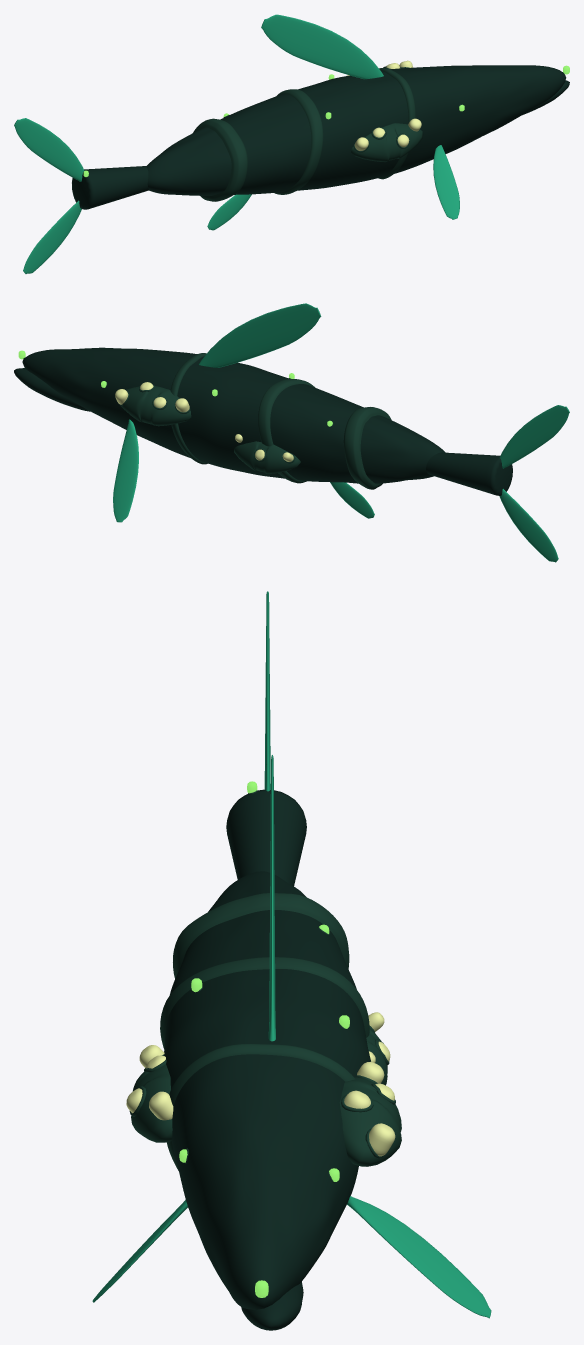
The model's file is corvette-pelagia-blender.glb.
3 renders of one model, top to bottom at view 1: azimuth 30°, elevation 25°; view 2: azimuth 150°, elevation 25°; view 3: azimuth 270°, elevation 25°, orthographic. The views are drawn at different scales.
Parts seen in each view (by area): view 1: hull, dorsal_blade, tail_peduncle, tail_fluke_upper, growth_ring_1, launcher_starboard_sheath, growth_ring_2, tail_fluke_lower, pectoral_starboard, keel_blade, launcher_starboard, growth_ring_3; view 2: hull, dorsal_blade, tail_peduncle, tail_fluke_upper, pectoral_port, launcher_port_fwd_sheath, growth_ring_1, tail_fluke_lower, launcher_port_aft_sheath, growth_ring_2, jaw_lobe, keel_blade (+2 smaller); view 3: hull, tail_peduncle, pectoral_port, growth_ring_1, launcher_port_fwd_sheath, growth_ring_2, growth_ring_3, launcher_port_fwd, launcher_starboard_sheath, launcher_starboard, dorsal_blade, jaw_lobe (+1 smaller).
Boxes of the visible parts, <box> form: hull: <box>146,65,566,195</box>; dorsal_blade: <box>261,14,383,79</box>; tail_peduncle: <box>72,166,148,209</box>; tail_fluke_upper: <box>14,118,84,181</box>; growth_ring_1: <box>193,118,247,201</box>; launcher_starboard_sheath: <box>351,123,423,161</box>; growth_ring_2: <box>274,89,323,194</box>; tail_fluke_lower: <box>23,200,81,273</box>; pectoral_starboard: <box>433,145,459,219</box>; keel_blade: <box>207,194,251,230</box>; launcher_starboard: <box>353,118,421,152</box>; growth_ring_3: <box>378,68,415,179</box>; hull: <box>22,347,445,483</box>; dorsal_blade: <box>199,303,321,367</box>; tail_peduncle: <box>426,452,512,495</box>; tail_fluke_upper: <box>499,405,569,468</box>; pectoral_port: <box>113,419,138,522</box>; launcher_port_fwd_sheath: <box>119,385,191,426</box>; growth_ring_1: <box>343,407,391,489</box>; tail_fluke_lower: <box>499,489,558,562</box>; launcher_port_aft_sheath: <box>234,441,300,473</box>; growth_ring_2: <box>258,379,315,483</box>; jaw_lobe: <box>14,368,90,411</box>; keel_blade: <box>330,482,374,518</box>; hull: <box>164,871,370,1309</box>; tail_peduncle: <box>226,789,306,886</box>; pectoral_port: <box>347,1196,491,1318</box>; growth_ring_1: <box>173,893,349,978</box>; launcher_port_fwd_sheath: <box>339,1077,401,1166</box>; growth_ring_2: <box>160,957,369,1048</box>; growth_ring_3: <box>166,1044,355,1170</box>; launcher_port_fwd: <box>341,1062,395,1158</box>; launcher_starboard_sheath: <box>131,1064,172,1142</box>; launcher_starboard: <box>126,1045,173,1120</box>; dorsal_blade: <box>268,755,275,1041</box>; jaw_lobe: <box>241,1281,303,1330</box>.
Size of the model in its own units: 78.52 by 28.66 by 24.41.
